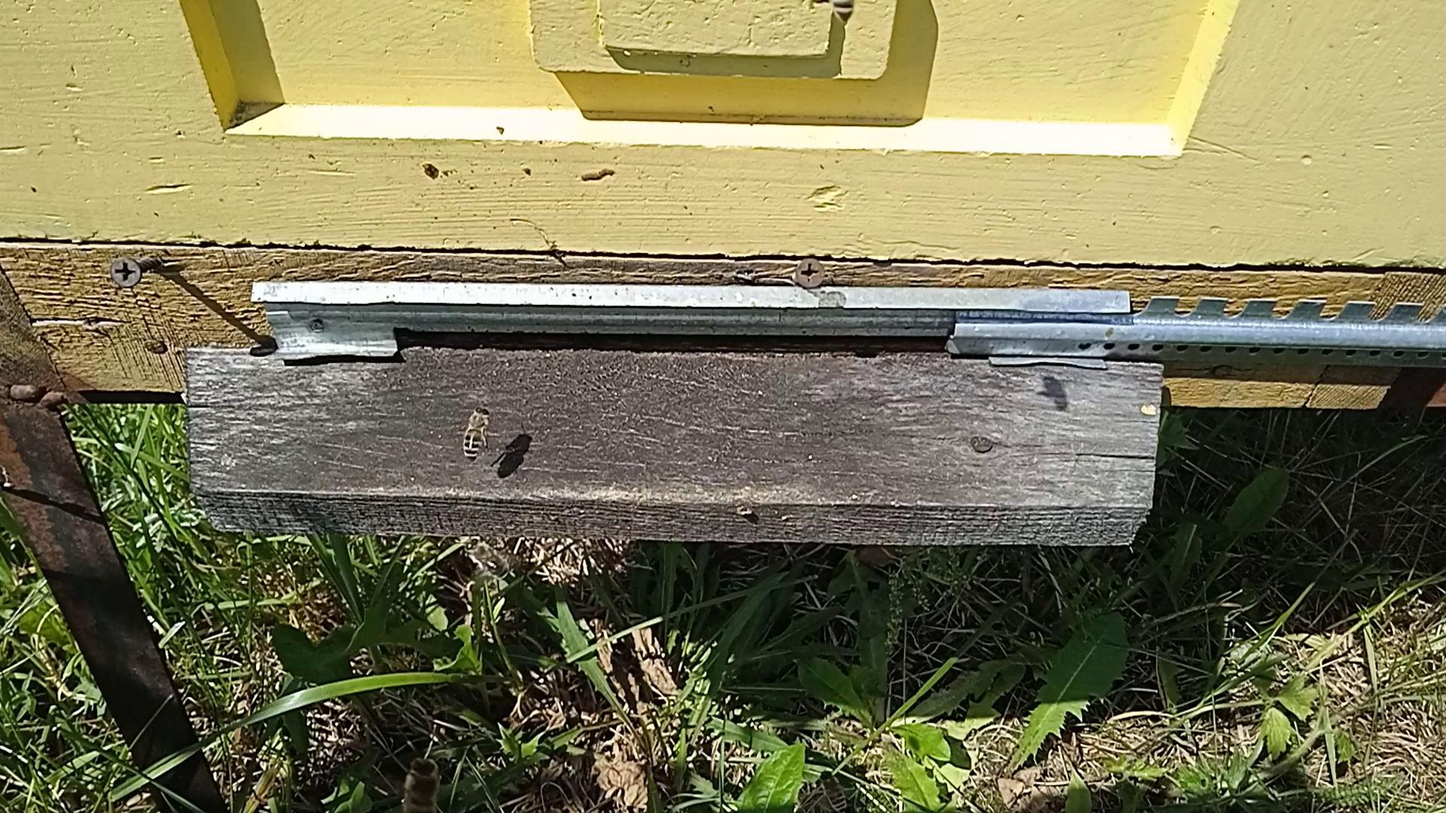worker-bee: (401, 758, 442, 813), (463, 538, 515, 580), (461, 404, 494, 461), (819, 772, 848, 812)
